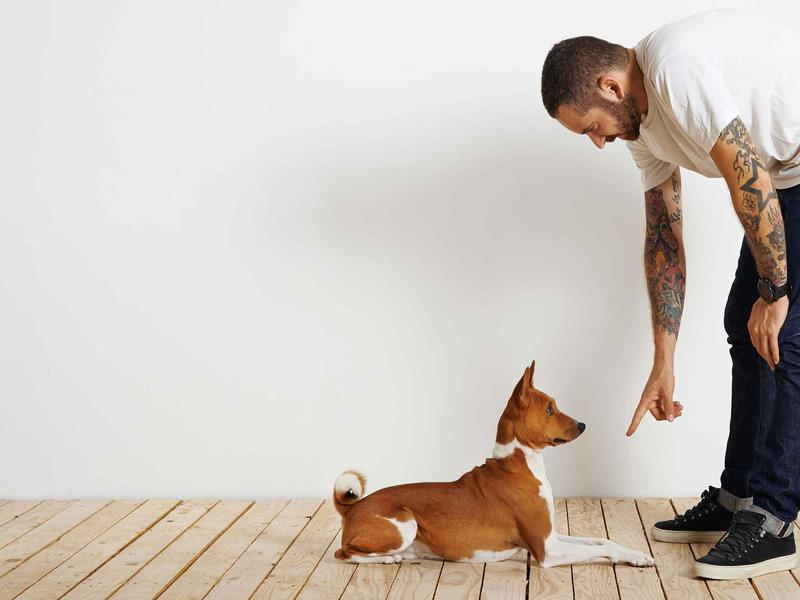dog_down: (329, 360, 658, 570)
